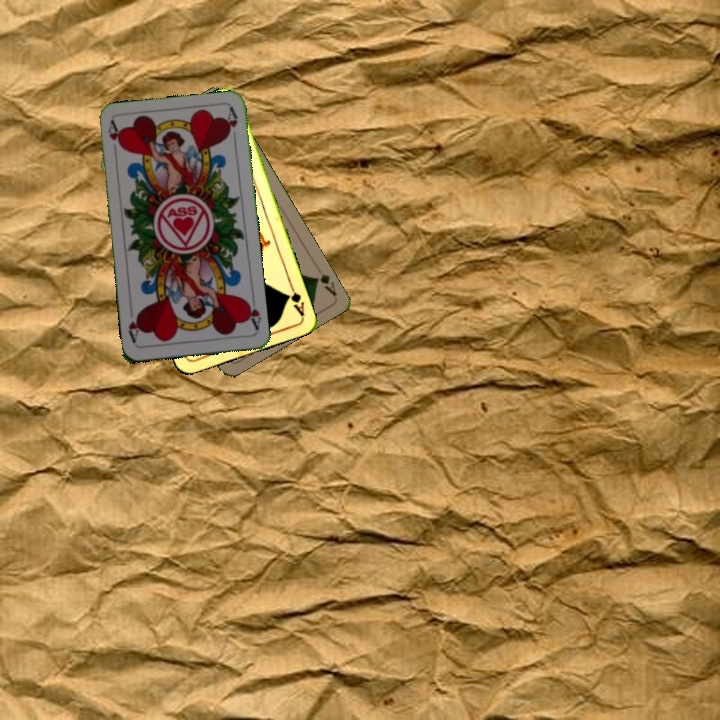GA: (282, 280, 307, 319), (309, 269, 339, 298)
HA: (241, 293, 263, 333), (104, 118, 124, 158)
